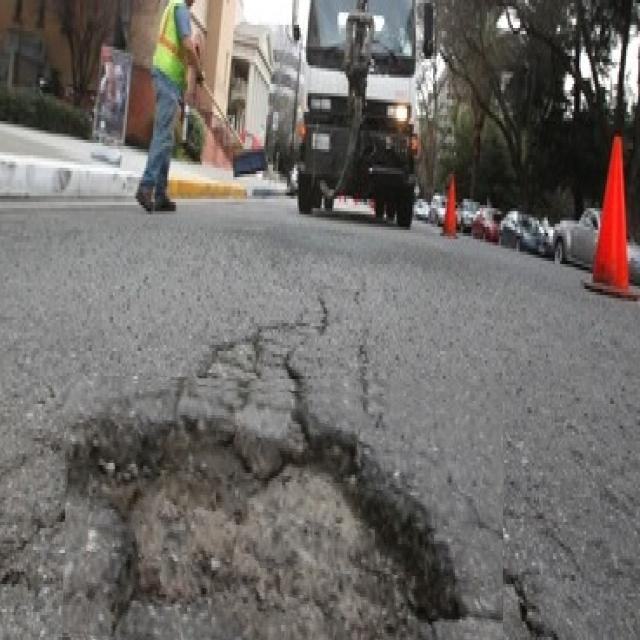Pothole: (63, 377, 503, 640)
